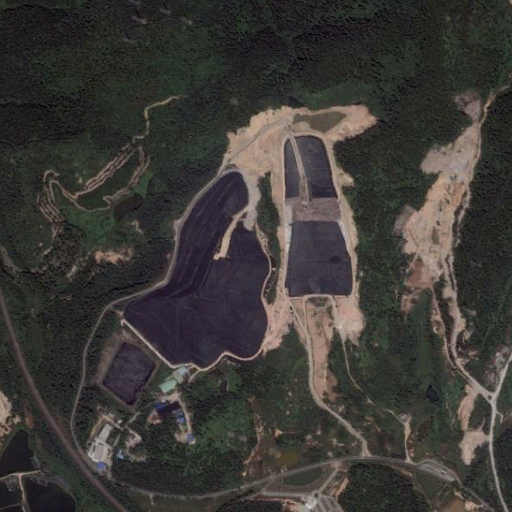lf: (125, 168, 272, 370), (282, 139, 353, 297)
